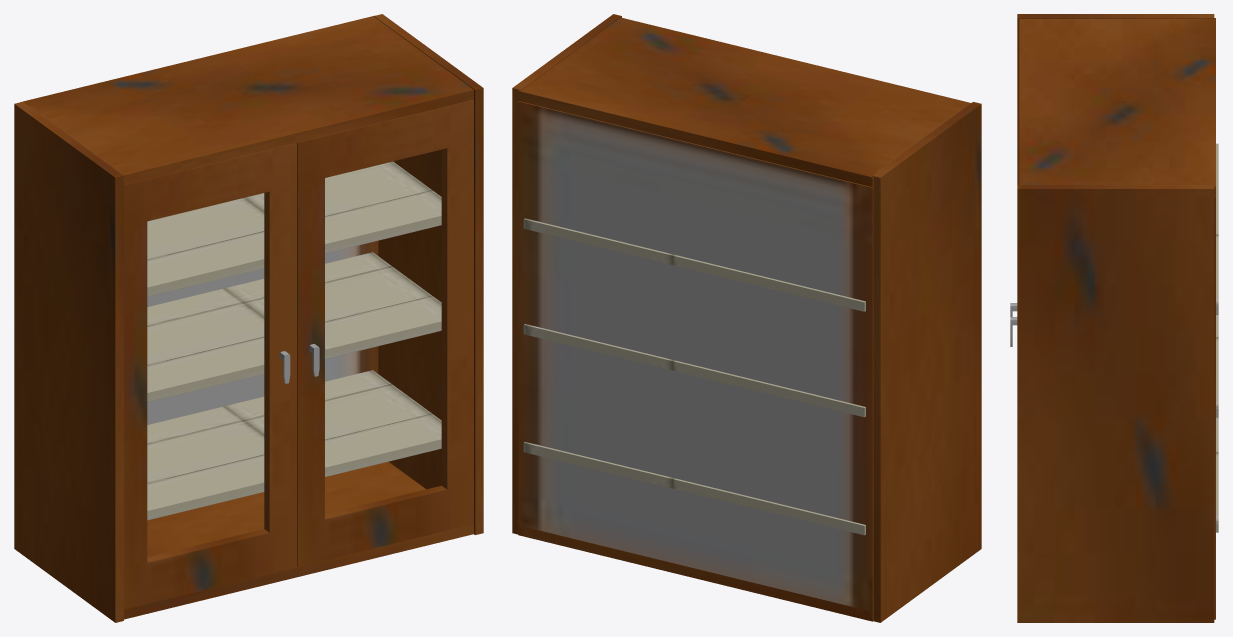
The model's file is showcase.glb.
3 views of the same model, side by side, from view 1: azimuth 30°, elevation 25°; view 2: azimuth 150°, elevation 25°; view 3: azimuth 270°, elevation 25° (orthographic). The views are drawn at different scales.
Visible parts, largest first — view 1: pCube142, pCube144, pCube173, pCube140, pCube146, pCube147, pCube145, pCube201, pCube172, pCube141; view 2: pCube141, pCube142, pCube144, pCube201, pCube145, pCube146, pCube147, pCube172; view 3: pCube201, pCube144, pCube142, pCube141, pCube145, pCube147, pCube146.
Part boxes in pixels (<box>): pCube142: <box>14,102,123,622</box>; pCube144: <box>20,15,473,184</box>; pCube173: <box>297,100,473,566</box>; pCube140: <box>124,143,296,609</box>; pCube146: <box>147,252,441,402</box>; pCube147: <box>147,370,441,520</box>; pCube145: <box>147,161,441,296</box>; pCube201: <box>374,14,483,534</box>; pCube172: <box>124,461,473,619</box>; pCube141: <box>147,241,378,424</box>; pCube141: <box>518,101,873,611</box>; pCube142: <box>872,102,981,622</box>; pCube144: <box>518,17,970,187</box>; pCube201: <box>512,14,621,534</box>; pCube145: <box>523,218,865,311</box>; pCube146: <box>523,324,865,417</box>; pCube147: <box>523,442,865,535</box>; pCube172: <box>518,525,873,621</box>; pCube201: <box>1017,185,1214,622</box>; pCube144: <box>1019,18,1215,195</box>; pCube142: <box>1017,14,1214,184</box>; pCube141: <box>1214,196,1215,618</box>; pCube145: <box>1216,143,1218,314</box>; pCube147: <box>1216,417,1218,532</box>; pCube146: <box>1216,315,1218,417</box>.
Size of what is drawn, in the model's own units: 2.38 by 2.75 by 1.2.
2 materials, 2 textured.
